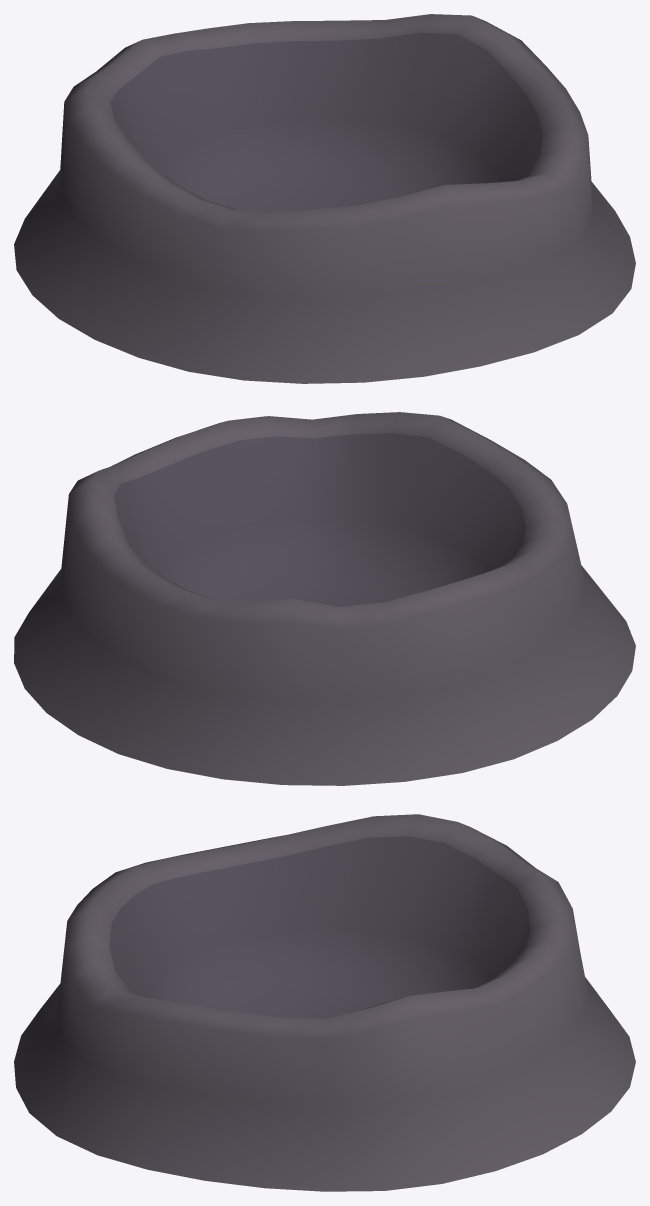
File: Crater_1.fbx
3 renders of one model, top to bottom at view 1: azimuth 30°, elevation 25°; view 2: azimuth 150°, elevation 25°; view 3: azimuth 270°, elevation 25°, orthographic.
Visible parts, largest first — view 1: Crater_1; view 2: Crater_1; view 3: Crater_1.
Boxes of the visible parts, left/top/right/bottom form: Crater_1: left=14, top=14, right=635, bottom=383; Crater_1: left=14, top=412, right=635, bottom=785; Crater_1: left=14, top=814, right=635, bottom=1191.
Size of the model in its own units: 10.65 by 3.02 by 10.75.
